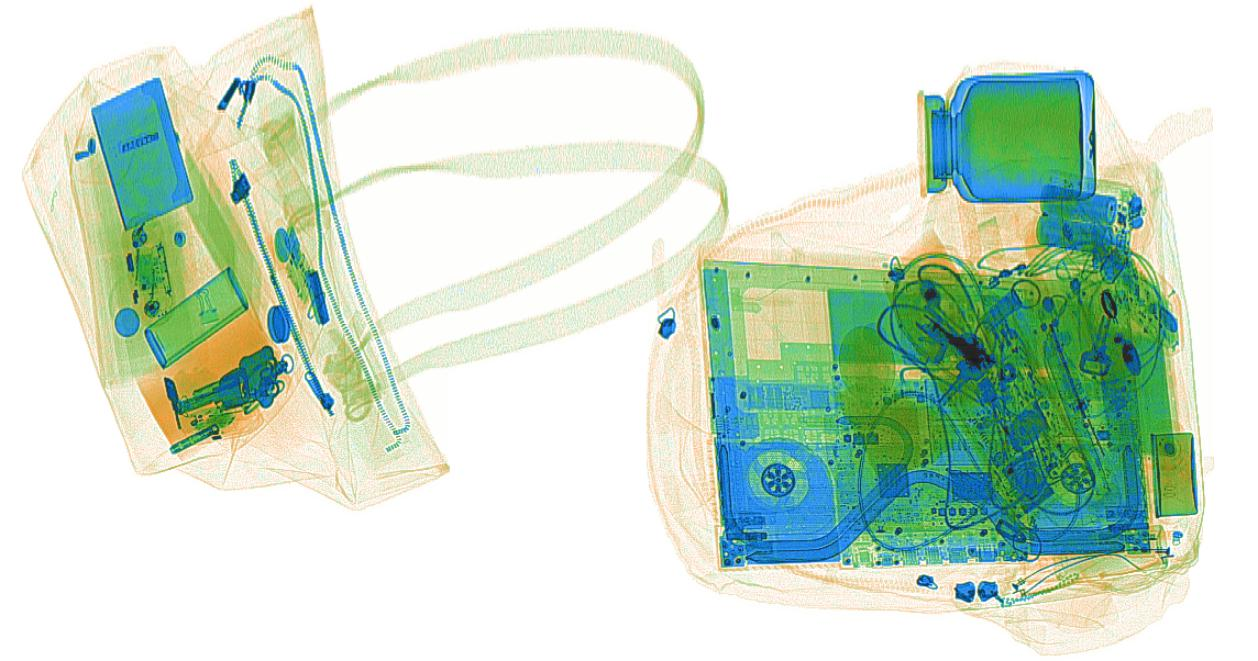USBFlashDisk: (282, 224, 319, 293)
battery: (1029, 170, 1142, 270)
